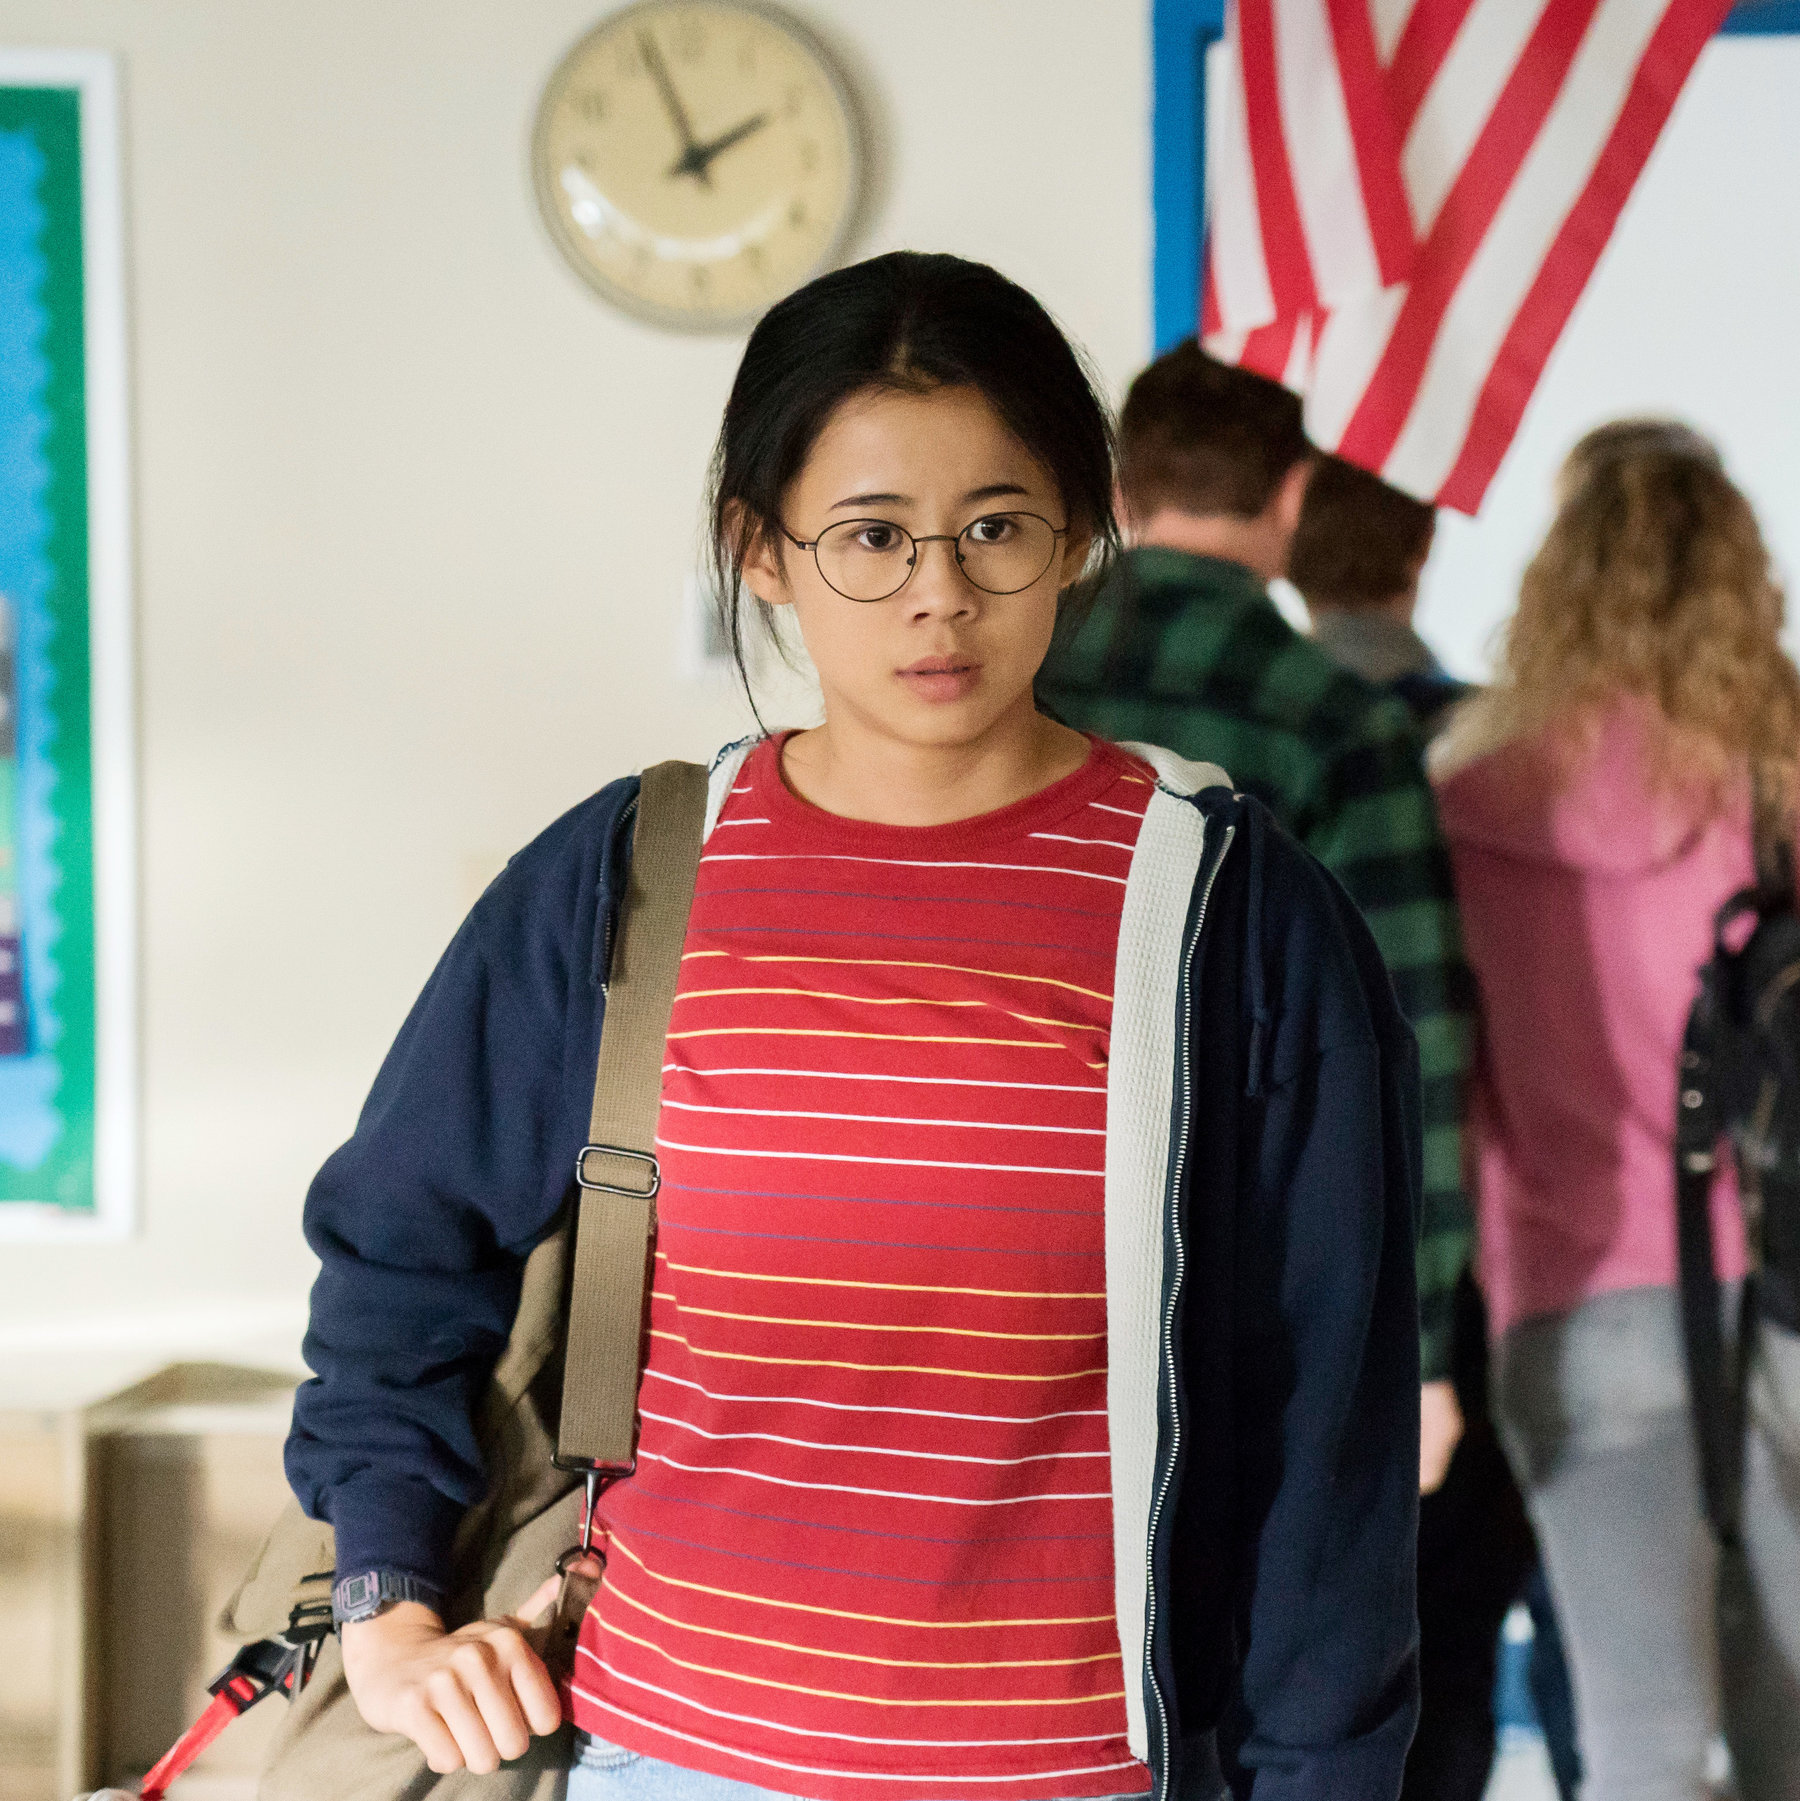person: (65, 232, 1462, 1801), (1471, 400, 1800, 1801), (1103, 303, 1462, 773)
